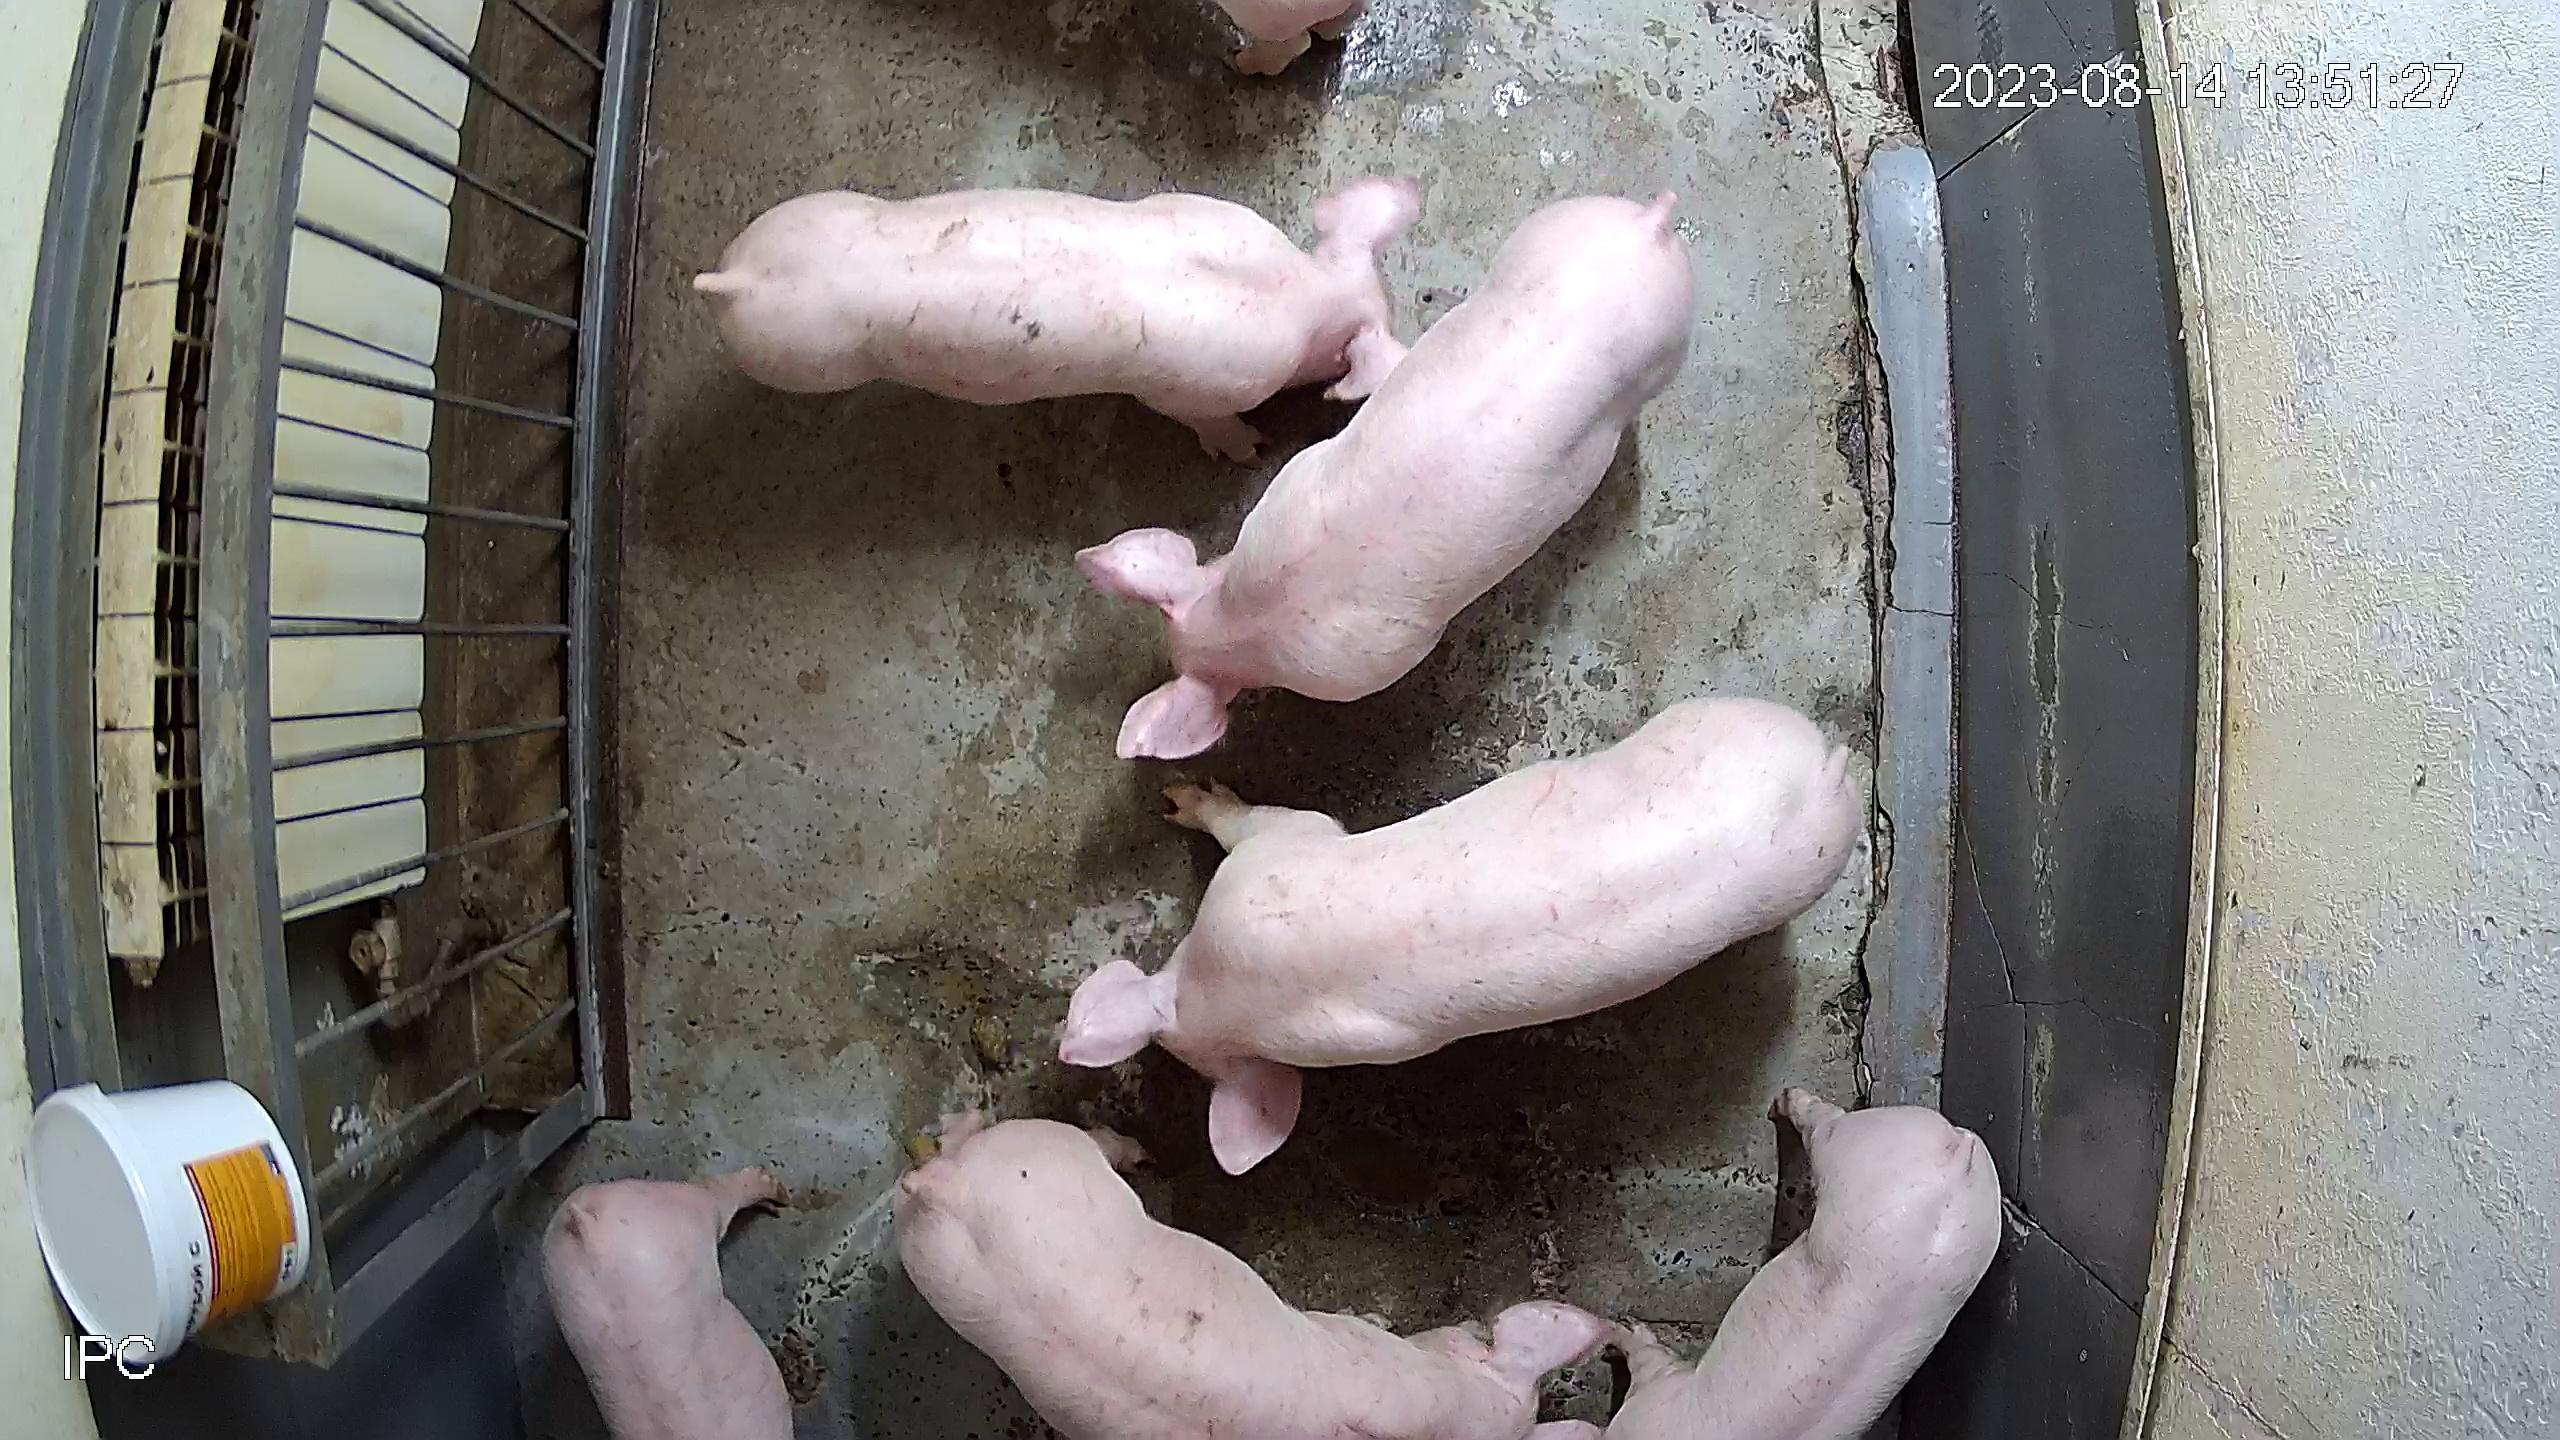Pig: (1059, 697, 1862, 1174), (1077, 188, 1697, 756), (895, 1114, 1614, 1440), (693, 175, 1422, 459), (1607, 1088, 2004, 1440), (542, 1168, 791, 1440), (1218, 0, 1368, 71)
